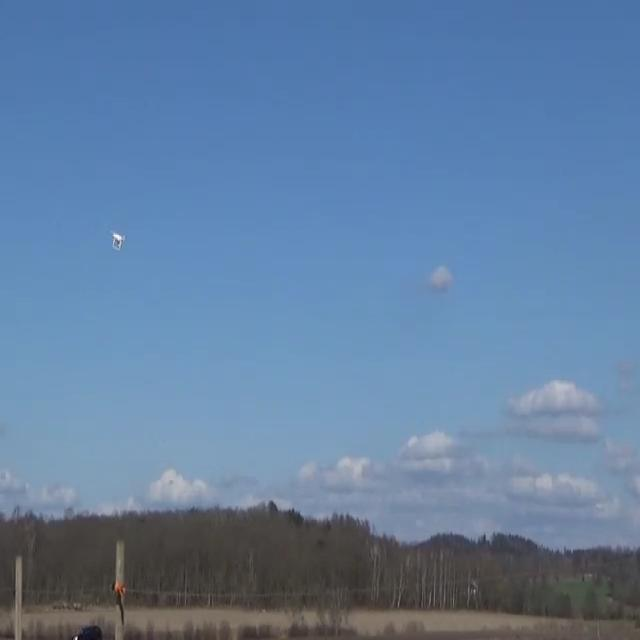Drone: (99, 217, 132, 262)
